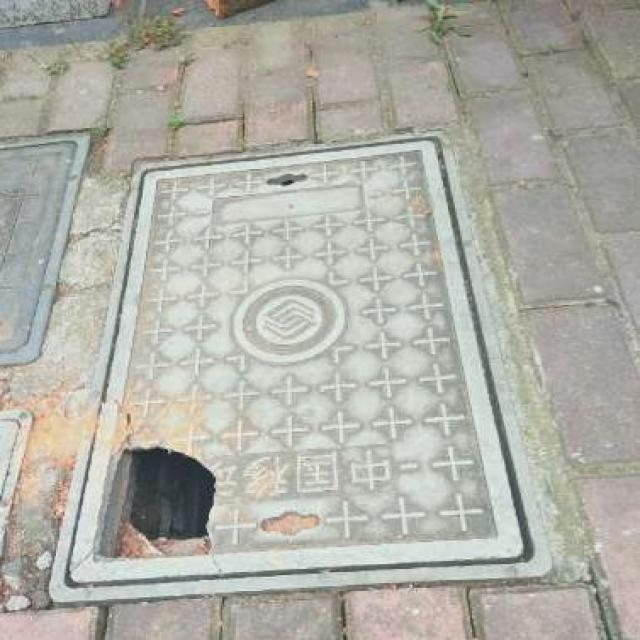Faulty: (46, 128, 556, 602)
